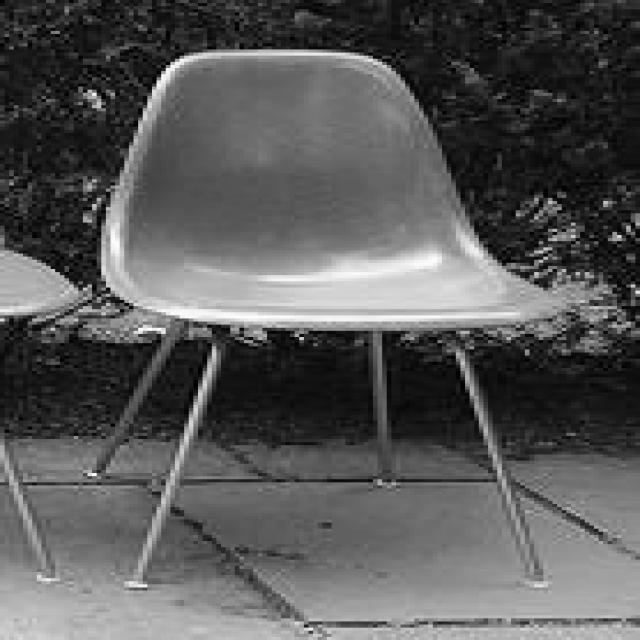chair: (82, 41, 569, 592)
